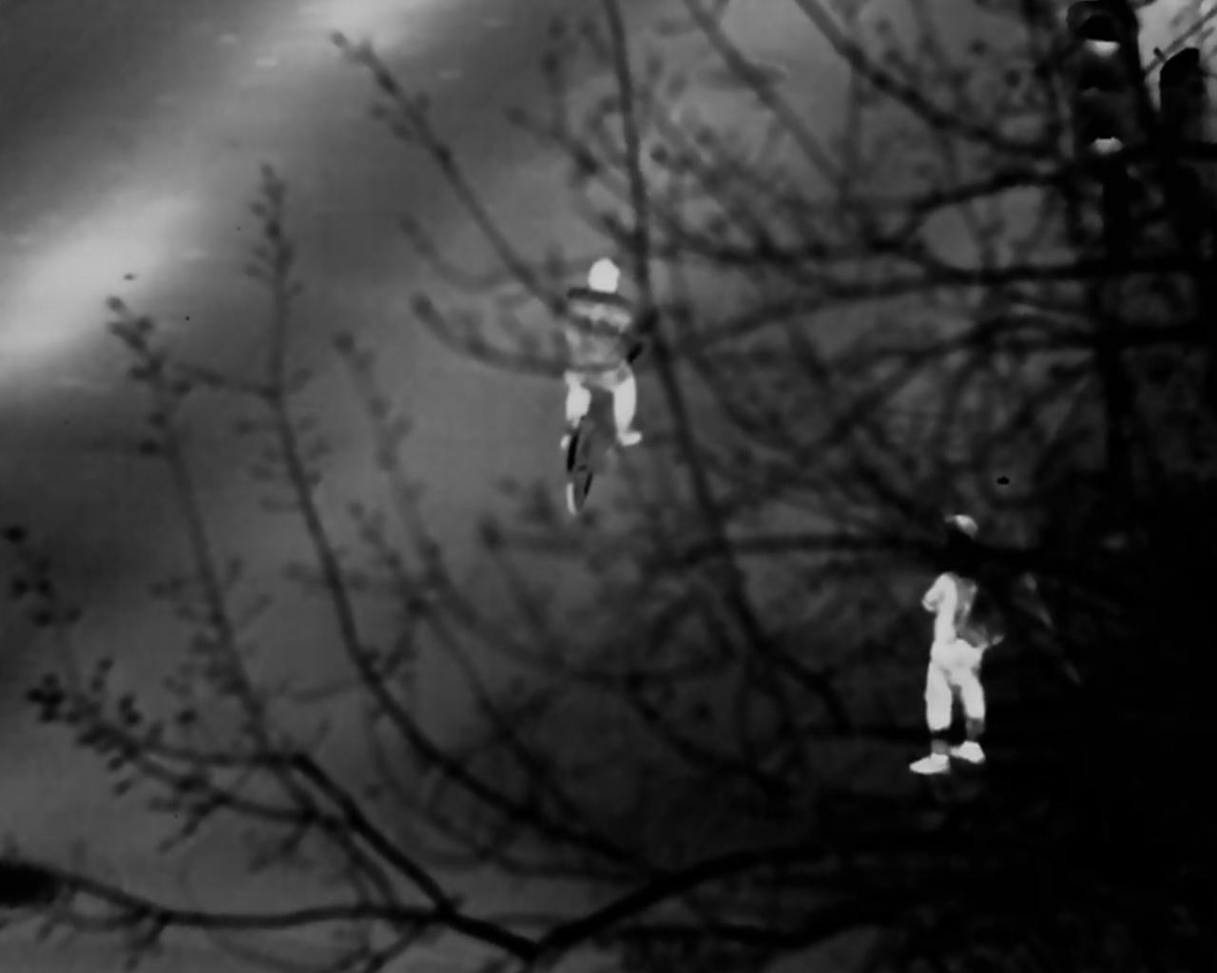person: (912, 512, 1014, 776), (562, 262, 639, 469)
